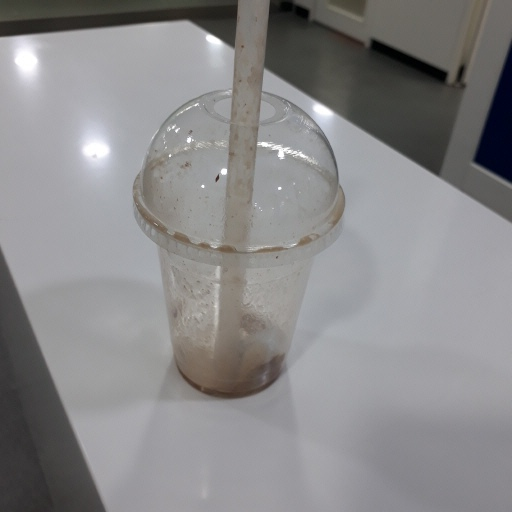Plastic_2: (131, 1, 346, 399)
